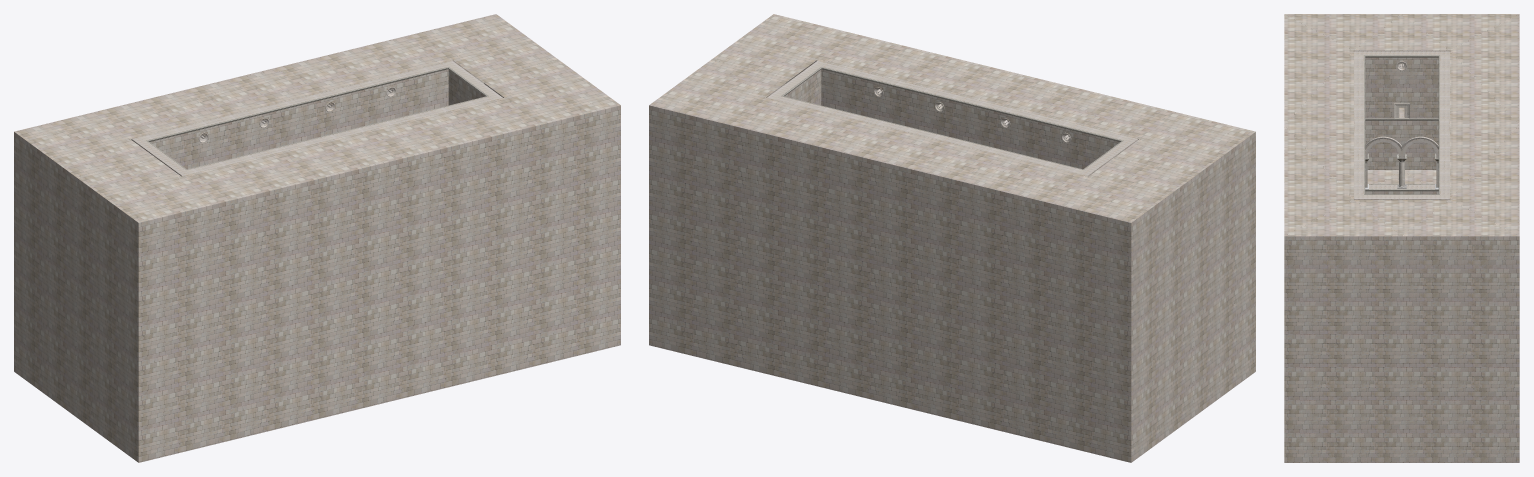
File: sponza.gltf
3 views of the same model, side by side, from view 1: azimuth 30°, elevation 25°; view 2: azimuth 150°, elevation 25°; view 3: azimuth 270°, elevation 25° (orthographic). The views are drawn at different scales.
Parts seen in each view (by area): view 1: outside01, walls, parapet, object23; view 2: outside01, walls, parapet, object23; view 3: outside01, walls, parapet, object23, arcs_small, arcs_01.
Part boxes in pixels (left/top/right/bottom): outside01: left=14, top=14, right=620, bottom=462; walls: left=131, top=60, right=503, bottom=176; parapet: left=132, top=60, right=502, bottom=175; object23: left=146, top=67, right=488, bottom=169; outside01: left=649, top=14, right=1255, bottom=462; walls: left=766, top=60, right=1138, bottom=176; parapet: left=767, top=60, right=1137, bottom=175; object23: left=781, top=67, right=1123, bottom=169; outside01: left=1284, top=14, right=1519, bottom=462; walls: left=1354, top=50, right=1449, bottom=199; parapet: left=1354, top=51, right=1449, bottom=198; object23: left=1364, top=55, right=1439, bottom=194; arcs_small: left=1365, top=139, right=1438, bottom=158; arcs_01: left=1365, top=136, right=1438, bottom=150.
Size of the model in its own units: 34.82 by 16.56 by 15.6.
Materials: 20 (19 with a texture image).
